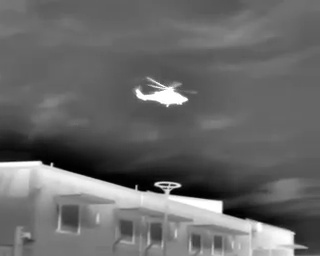HELICOPTER: (130, 72, 201, 116)
